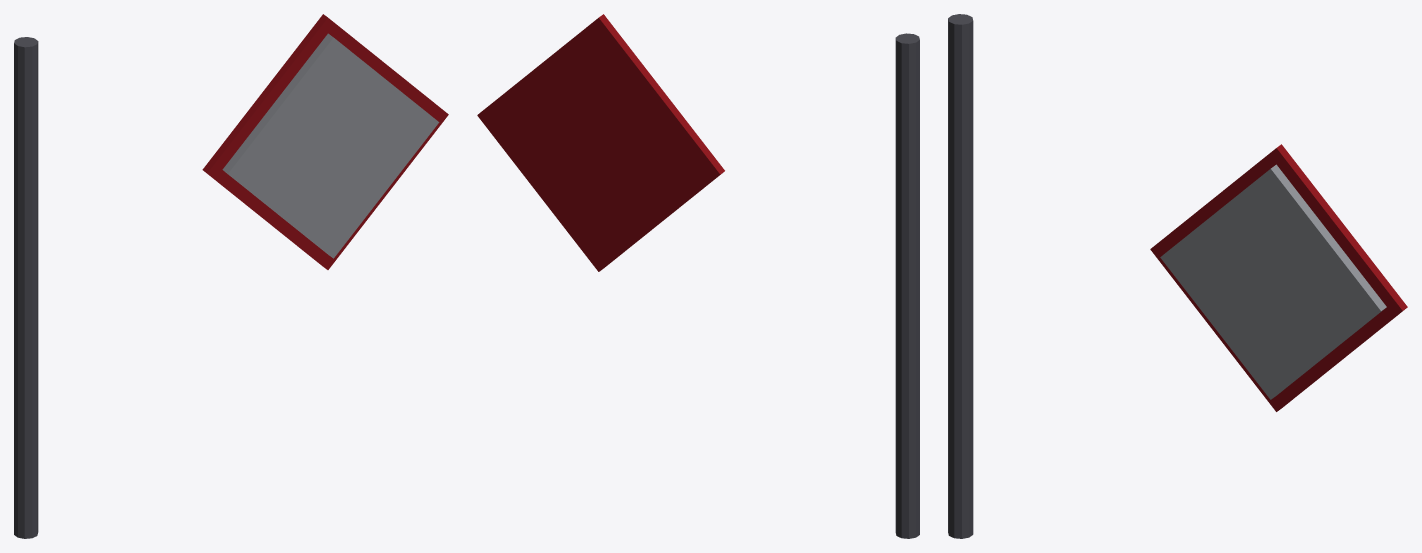
Rendered from SM_K_RoadSign.obj.
The picture shows the model from 3 angles, left to right: view 1: azimuth 30°, elevation 25°; view 2: azimuth 150°, elevation 25°; view 3: azimuth 330°, elevation 25°; orthographic projection. The views are drawn at different scales.
Visible parts, largest first — view 1: SM_K_RoadSign; view 2: SM_K_RoadSign; view 3: SM_K_RoadSign.
Boxes of the visible parts, left/top/right/bottom form: SM_K_RoadSign: left=14, top=14, right=448, bottom=538; SM_K_RoadSign: left=477, top=14, right=919, bottom=538; SM_K_RoadSign: left=948, top=14, right=1407, bottom=538.
Size of the model in its own units: 2.03 by 2.2 by 0.1.
